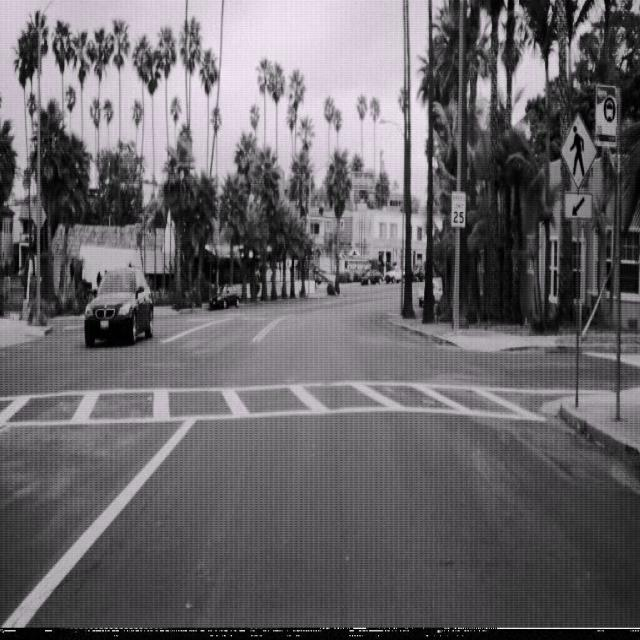pedestrianCrossing: (560, 112, 598, 191)
speedLimit25: (451, 189, 466, 228)
